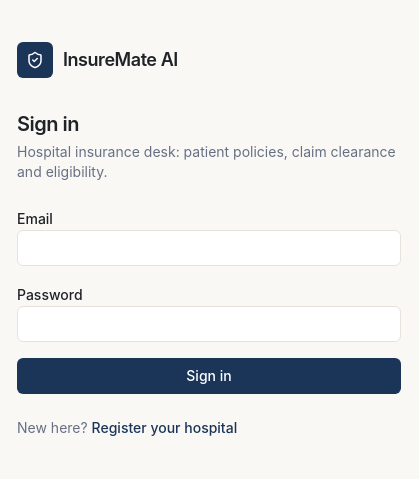
Test: AuthPage › shows a friendly error when the backend is unreachable
Step 1. Type "a@example.com" into the field labelled "Email" → (209, 248), box 17,230 -> 401,266
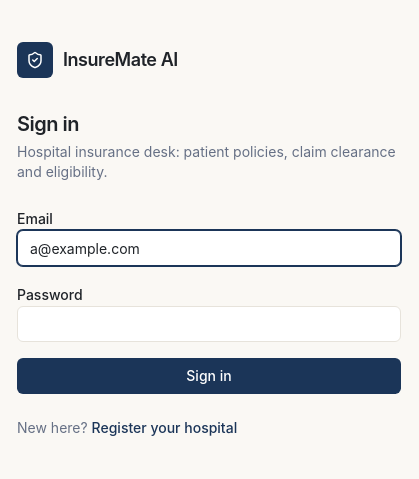
Step 2. Type "whatever1" into the password field labelled "Password" → (209, 324), box 17,306 -> 401,342
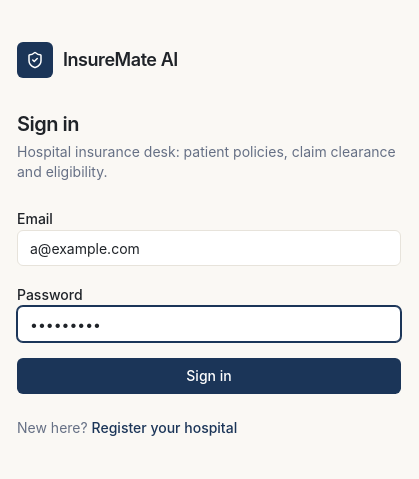
Step 3. Click the button "Sign in" → (209, 376), box 17,358 -> 401,394
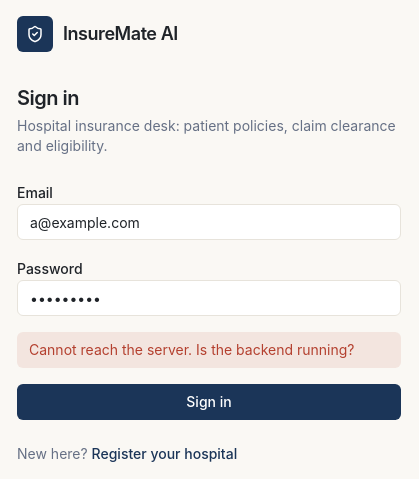
Result: the text "Cannot reach the server. Is the backend running?" is shown at 17,332 -> 401,368
